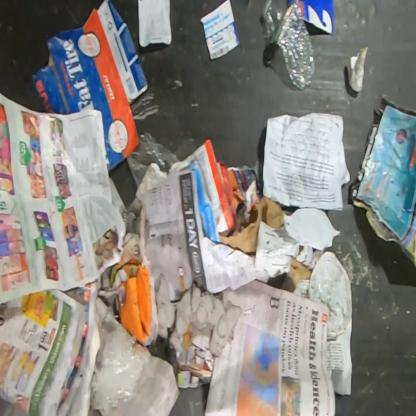cardboard: (32, 0, 149, 172)
rigid_plastic: (261, 0, 317, 91)
soft_plastic: (89, 325, 143, 412), (308, 252, 348, 333), (126, 132, 180, 189)
